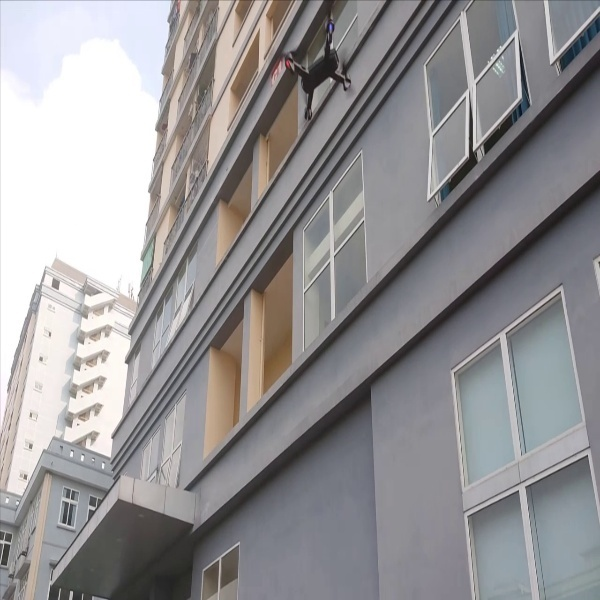drone: (281, 7, 367, 124)
